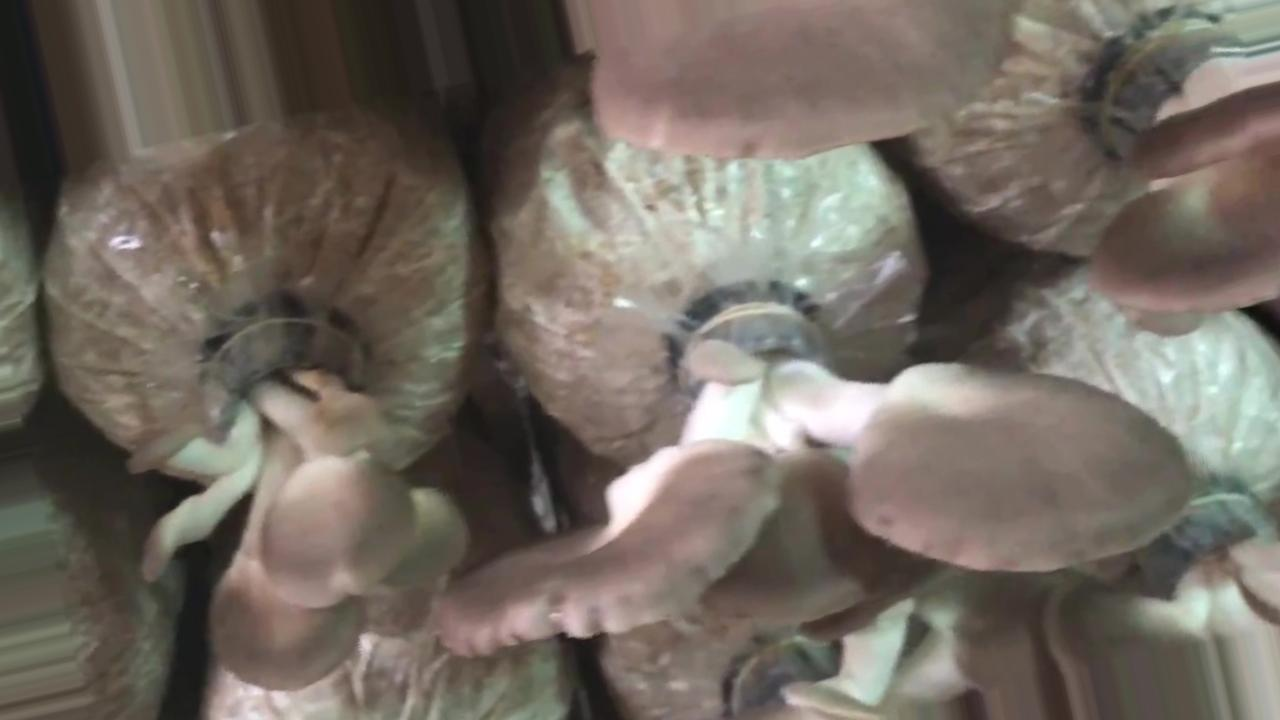nam: (432, 303, 1193, 660), (132, 299, 471, 699), (586, 5, 1000, 160), (1092, 18, 1280, 320)
